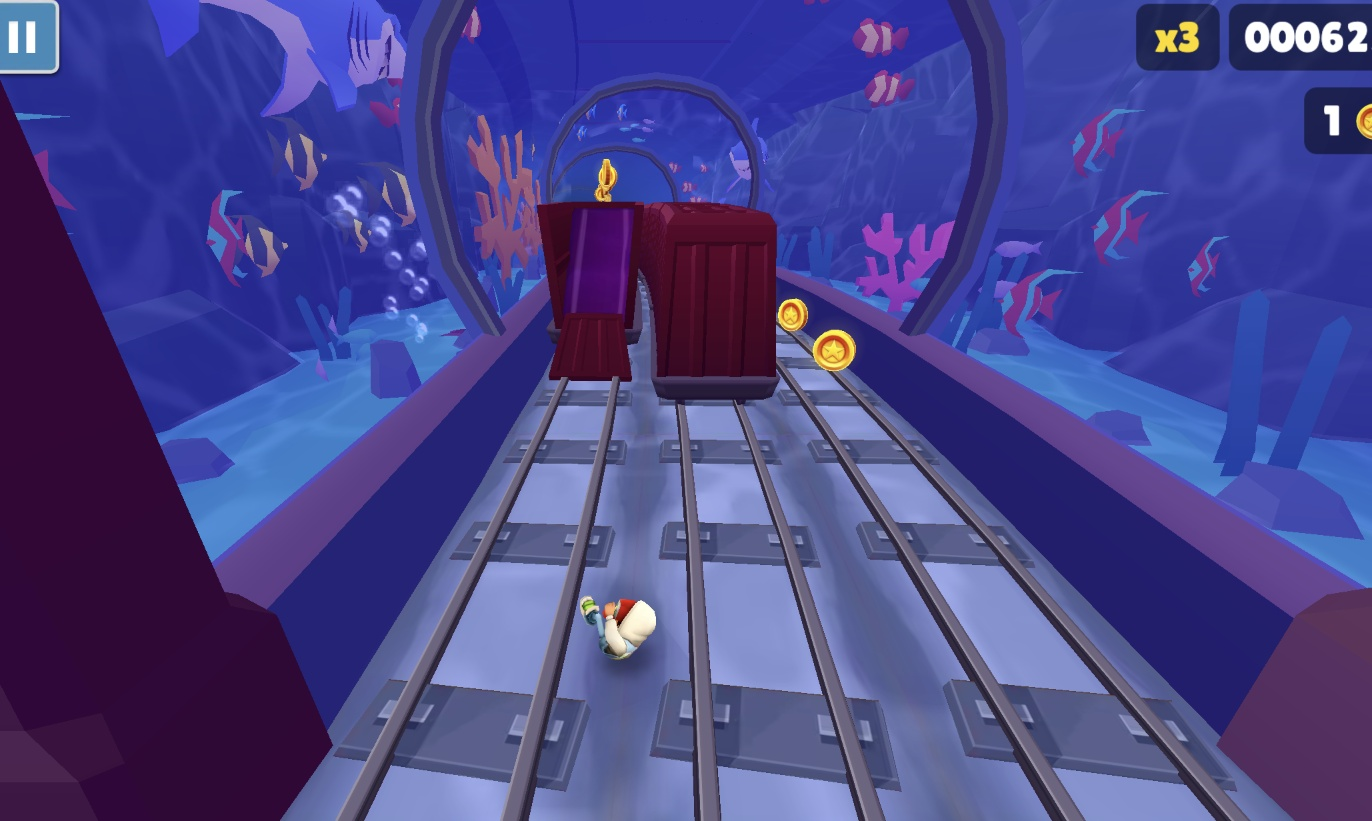overhead_barrier: (518, 235, 539, 280)
train: (634, 202, 782, 406), (534, 201, 640, 385)
